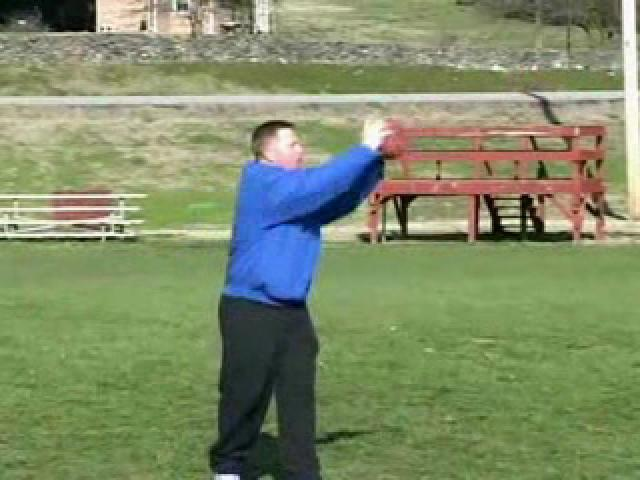I: (196, 120, 402, 480)
